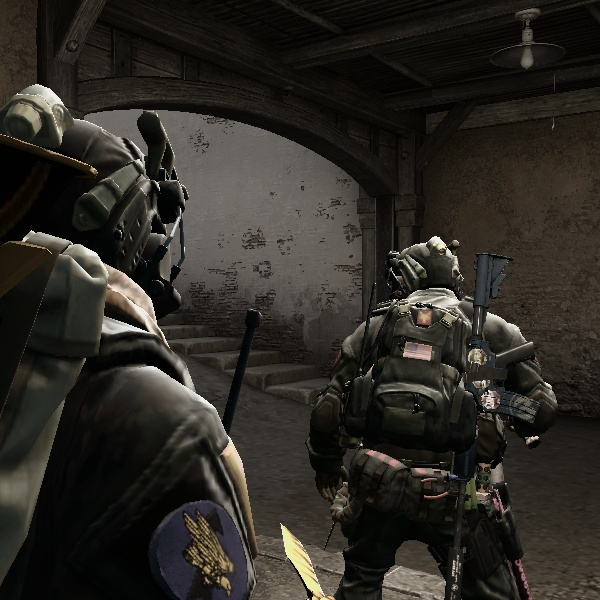ct_body: (312, 233, 537, 600)
ct_head: (381, 233, 467, 306)
